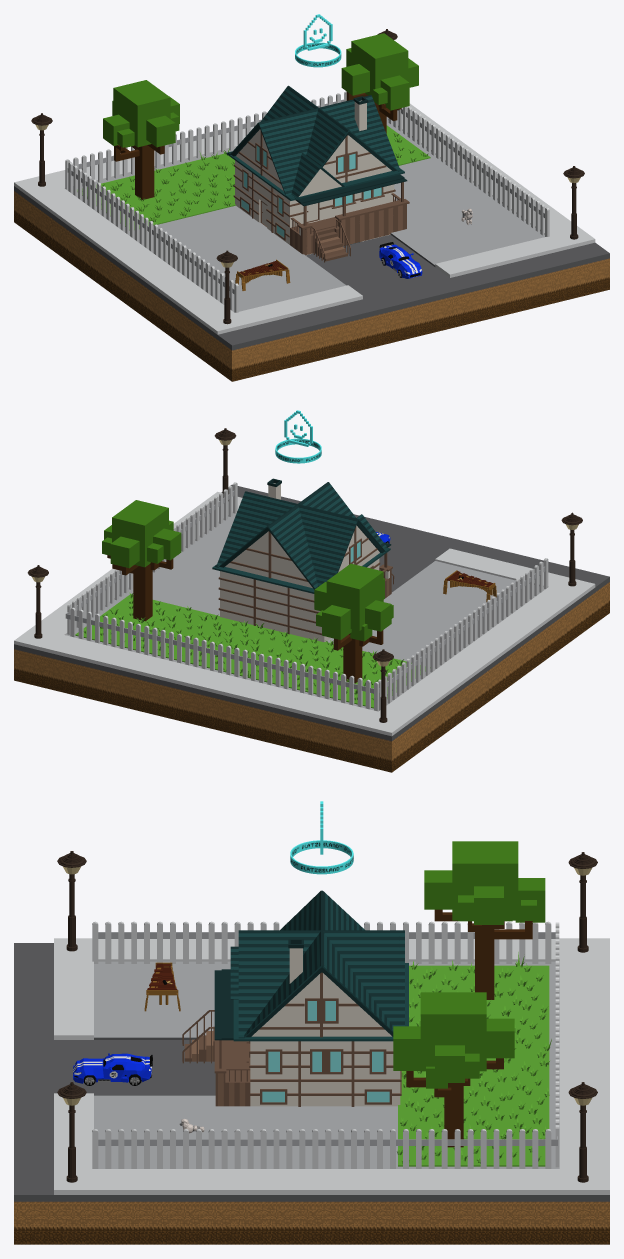
The picture shows the model from 3 angles, top to bottom: view 1: azimuth 30°, elevation 25°; view 2: azimuth 150°, elevation 25°; view 3: azimuth 270°, elevation 25°; orthographic projection. The views are drawn at different scales.
Parts seen in each view (by area): view 1: Cube.004, Cube.793, VEHICLES_RACING_CAR, TYPE_PREMIUM, OBJRANDOM_MARIMBA; view 2: Cube.004, Cube.793, TYPE_PREMIUM, OBJRANDOM_MARIMBA; view 3: Cube.004, Cube.793, VEHICLES_RACING_CAR, TYPE_PREMIUM, OBJRANDOM_MARIMBA.
Part boxes in pixels (left/top/right/bottom): Cube.004: left=14, top=29, right=609, bottom=381; Cube.793: left=226, top=85, right=409, bottom=262; VEHICLES_RACING_CAR: left=379, top=242, right=422, bottom=278; TYPE_PREMIUM: left=295, top=14, right=341, bottom=67; OBJRANDOM_MARIMBA: left=235, top=259, right=290, bottom=290; Cube.004: left=14, top=428, right=609, bottom=772; Cube.793: left=212, top=478, right=394, bottom=642; TYPE_PREMIUM: left=275, top=410, right=321, bottom=463; OBJRANDOM_MARIMBA: left=443, top=570, right=496, bottom=602; Cube.004: left=14, top=841, right=609, bottom=1244; Cube.793: left=182, top=890, right=408, bottom=1106; VEHICLES_RACING_CAR: left=73, top=1053, right=152, bottom=1085; TYPE_PREMIUM: left=290, top=801, right=353, bottom=874; OBJRANDOM_MARIMBA: left=144, top=962, right=180, bottom=1011.
Bounding box in the file's own units: 4000 × 2417 × 4000.
Materials: 31 (6 with a texture image).
